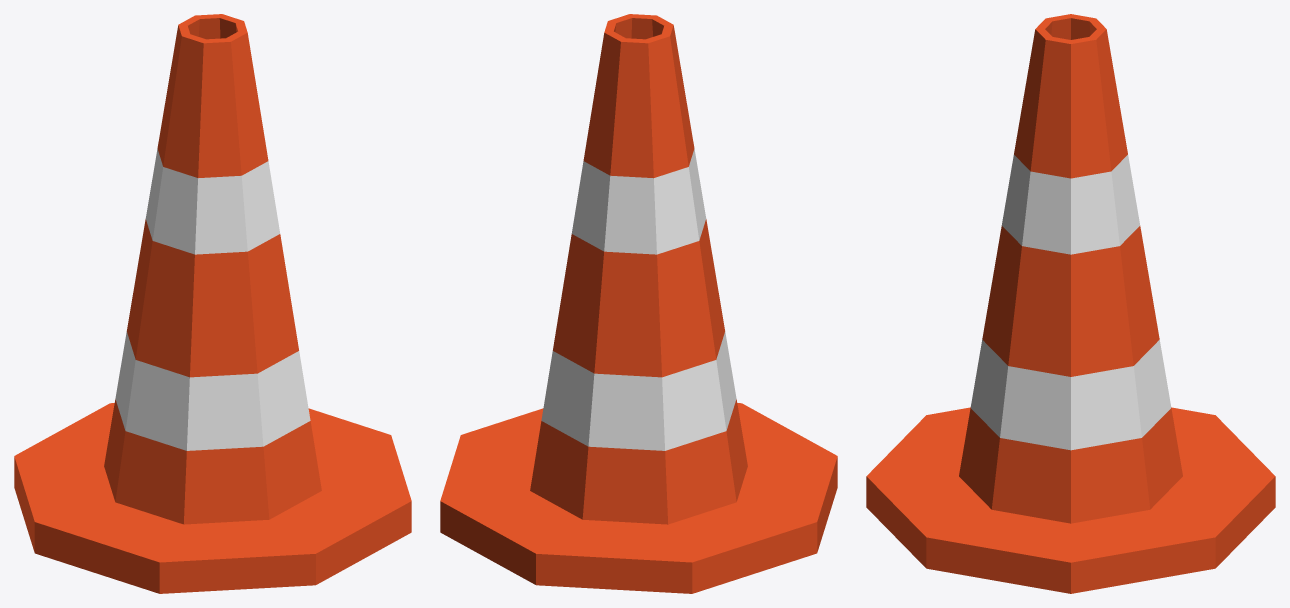
Rendered from prop_traffic_cone.glb.
The picture shows the model from 3 angles, left to right: view 1: azimuth 30°, elevation 25°; view 2: azimuth 150°, elevation 25°; view 3: azimuth 270°, elevation 25°; orthographic projection.
Visible parts, largest first — view 1: traffic cone; view 2: traffic cone; view 3: traffic cone.
Part boxes in pixels (x1,y1,x2,y2): traffic cone: (14,14,411,593); traffic cone: (440,14,837,593); traffic cone: (866,14,1275,593).
Bounding box in the file's own units: 1.31 × 1.68 × 1.31.
